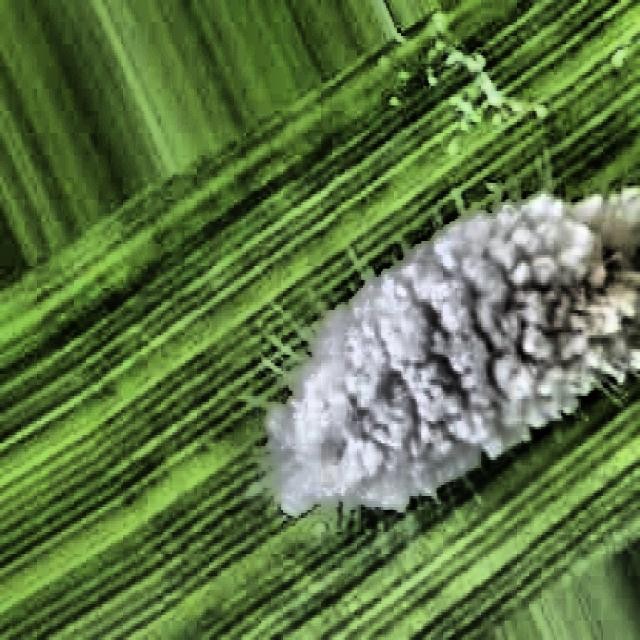Mealy-bug: (235, 141, 637, 607)
